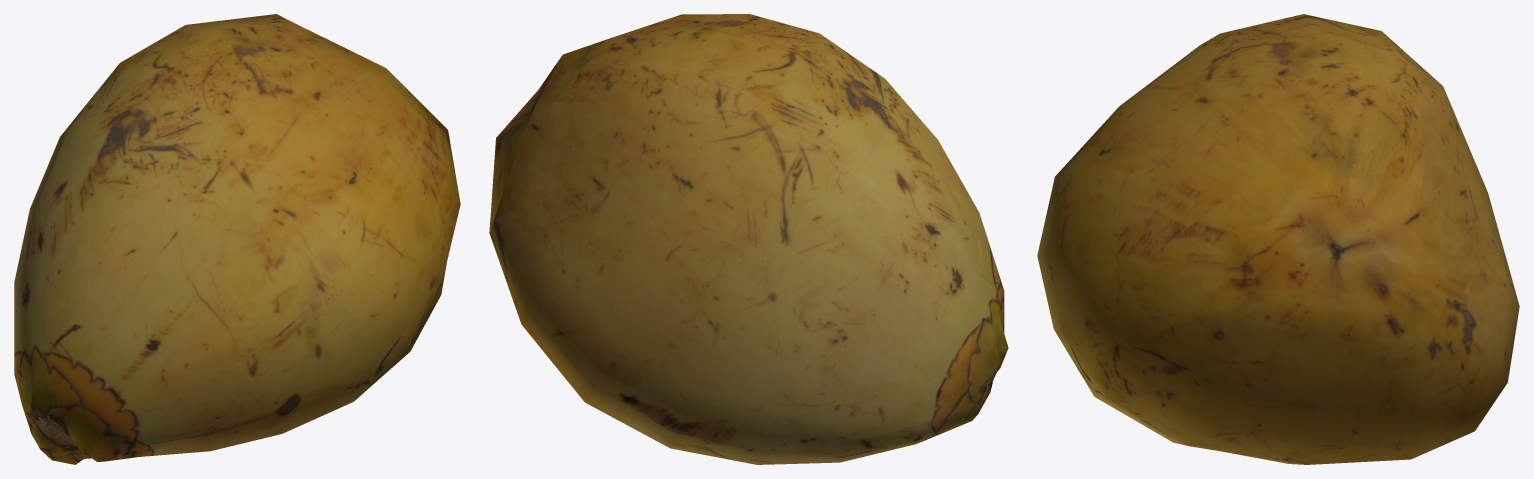
Rendered from A53_Coconut_low.fbx.
3 views of the same model, side by side, from view 1: azimuth 30°, elevation 25°; view 2: azimuth 150°, elevation 25°; view 3: azimuth 270°, elevation 25° (orthographic). The views are drawn at different scales.
Visible parts, largest first — view 1: A53_Coconut_low; view 2: A53_Coconut_low; view 3: A53_Coconut_low.
Part boxes in pixels (<box>): A53_Coconut_low: <box>14,14,460,464</box>; A53_Coconut_low: <box>489,14,1008,464</box>; A53_Coconut_low: <box>1037,14,1519,464</box>.
Size of the model in its own units: 21.98 by 18.77 by 18.43.
1 material, 1 textured.
